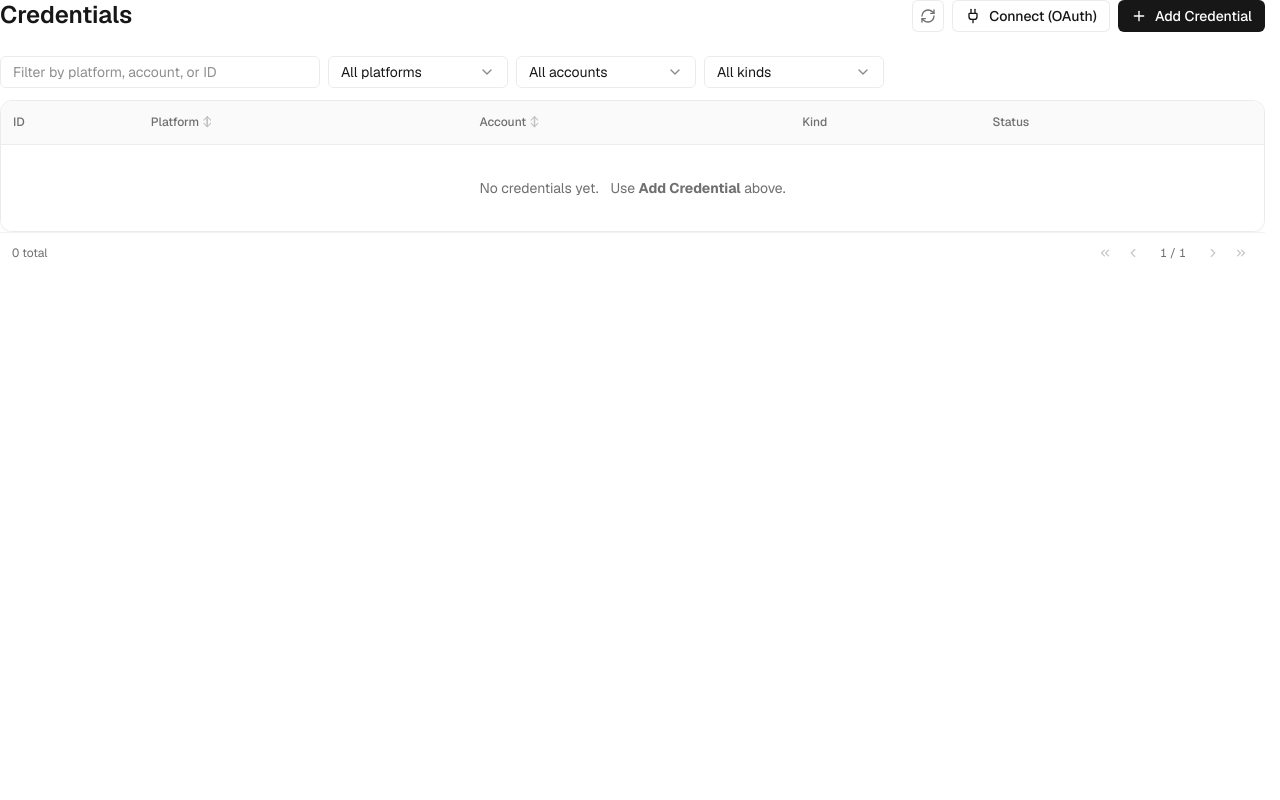
Scenario: CredentialsPage — Connect (OAuth) dialog › opens the Connect dialog with a provider picker, platform picker, account field, and BYO client fields
Click the button "Connect (OAuth)": click(1031, 16) [952,0,1110,32]
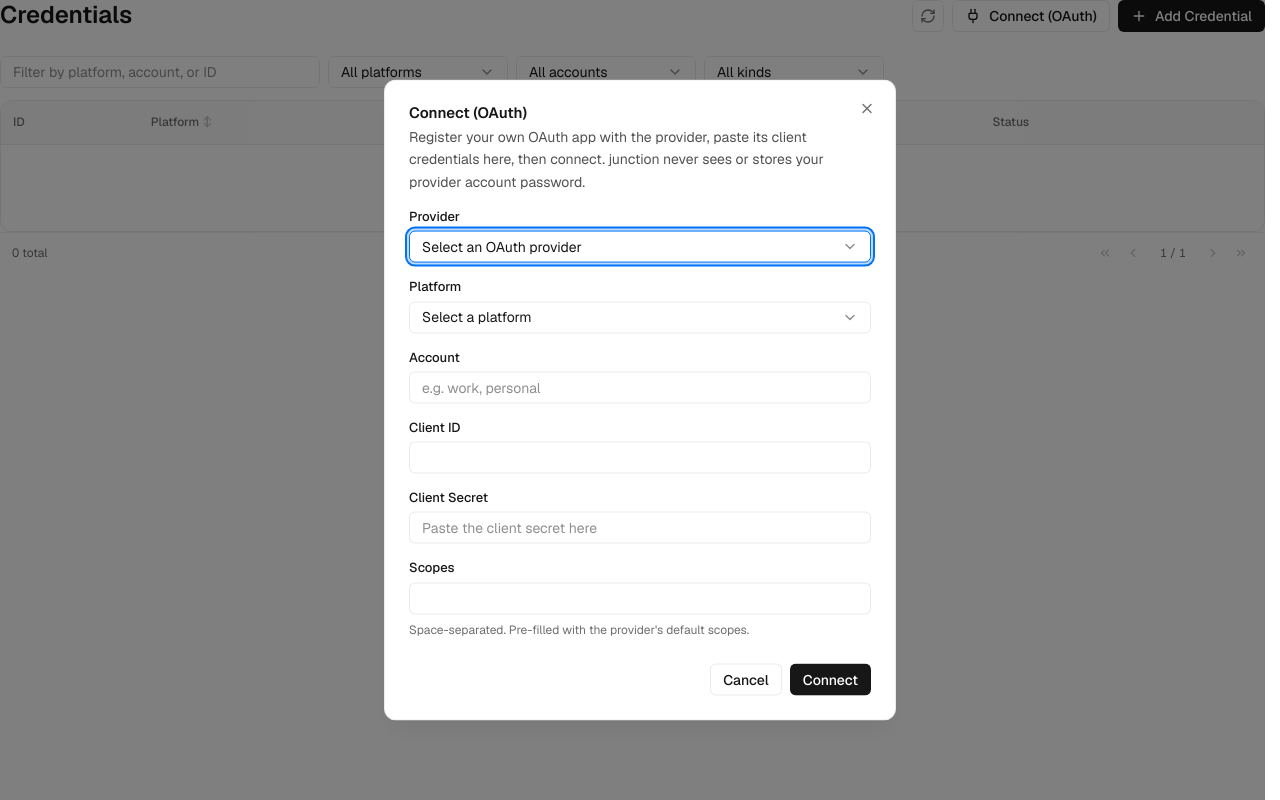
Expected: the dialog is shown, [384,80,896,720]
Expected: the dropdown labelled "Select an OAuth provider" is shown, [409,231,871,263]
Expected: the dropdown labelled "Select a platform" is shown, [409,301,871,333]
